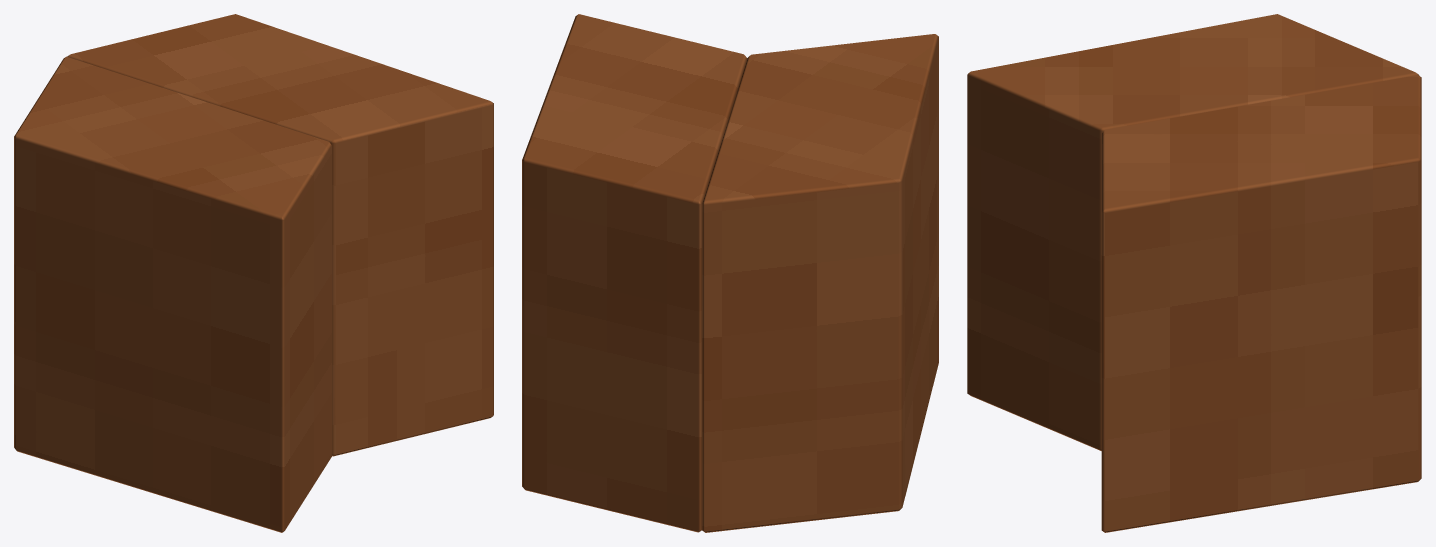
File: CornerKey-5.glb
The picture shows the model from 3 angles, left to right: view 1: azimuth 30°, elevation 25°; view 2: azimuth 150°, elevation 25°; view 3: azimuth 270°, elevation 25°; orthographic projection. The views are drawn at different scales.
Visible parts, largest first — view 1: CornerKey-5; view 2: CornerKey-5; view 3: CornerKey-5.
Boxes of the visible parts, bbox=[...] form: CornerKey-5: bbox=[14, 14, 493, 532]; CornerKey-5: bbox=[522, 14, 938, 532]; CornerKey-5: bbox=[967, 14, 1421, 532].
Bounding box in the file's own units: 0.2698 × 0.207 × 0.2626.
1 material, 1 textured.
